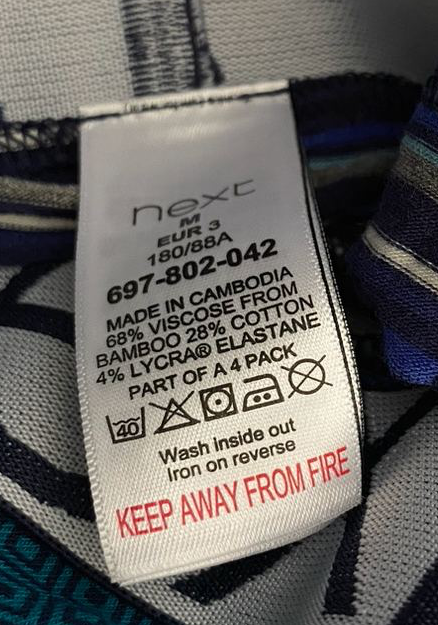do_not_bleach: (149, 387, 200, 435)
do_not_dry_clean: (281, 353, 334, 400)
ironing_at_med_temp: (237, 370, 284, 414)
tumble_drying_low_temps: (198, 380, 241, 422)
wash_at_or_below_40: (104, 402, 147, 446)
